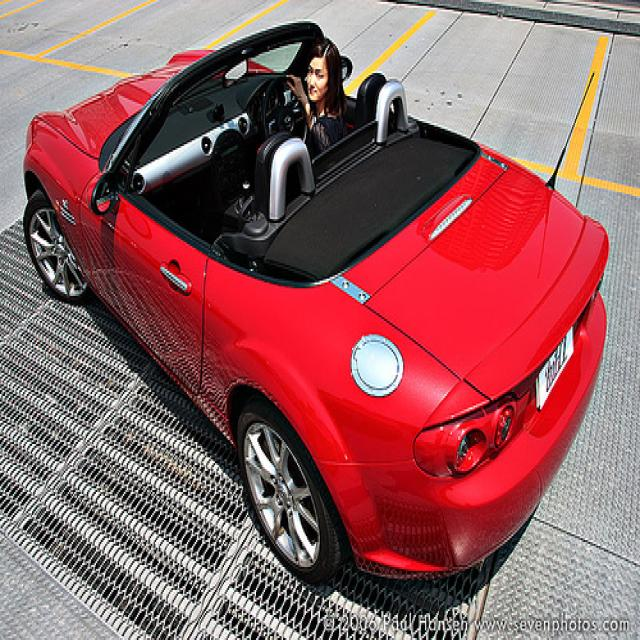light_vehicle: (16, 17, 612, 592)
